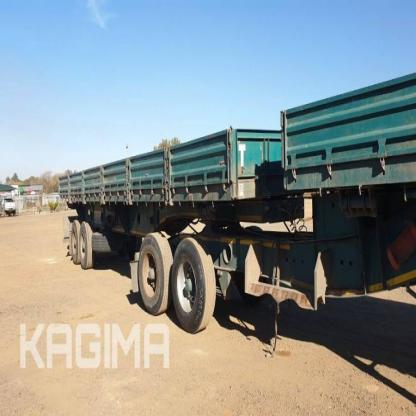dump_truck: (48, 60, 416, 351)
